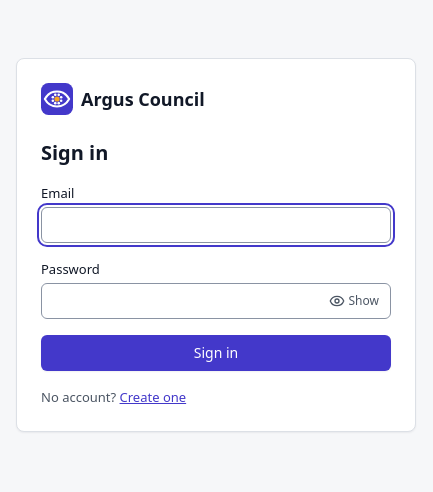
Test: Login page › counts down a rate limit and blocks submit until it ends
Type "ada@example.com" into the field labelled "Email" at (216, 225), box [41,207,391,243]
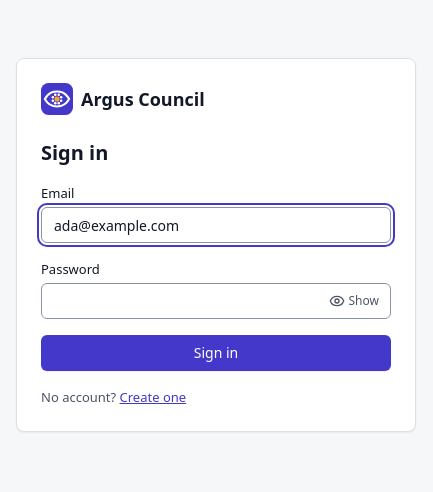
Type "whatever it is" into the password field labelled "Password" at (216, 301), box [41,283,391,319]
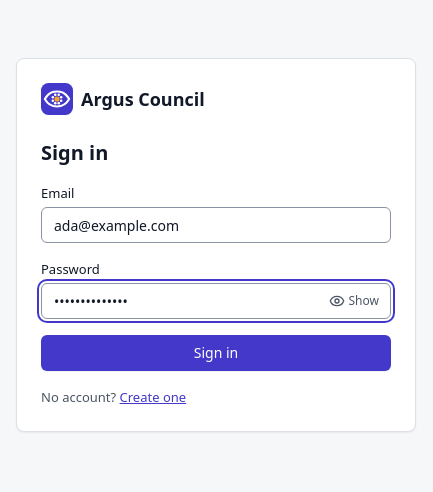
Click the button "Sign in" at (216, 353), box [41,335,391,371]
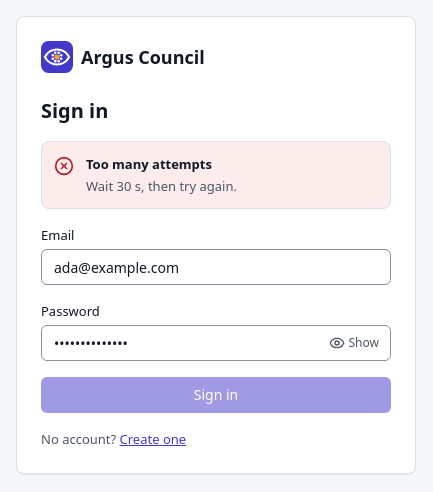
Check: the text "Too many attempts" is shown, box [86,155,212,173]
Check: the text "Wait 30 s, then try again." is shown, box [86,177,237,195]
Check: the button "Sign in" is disabled, box [41,377,391,413]
